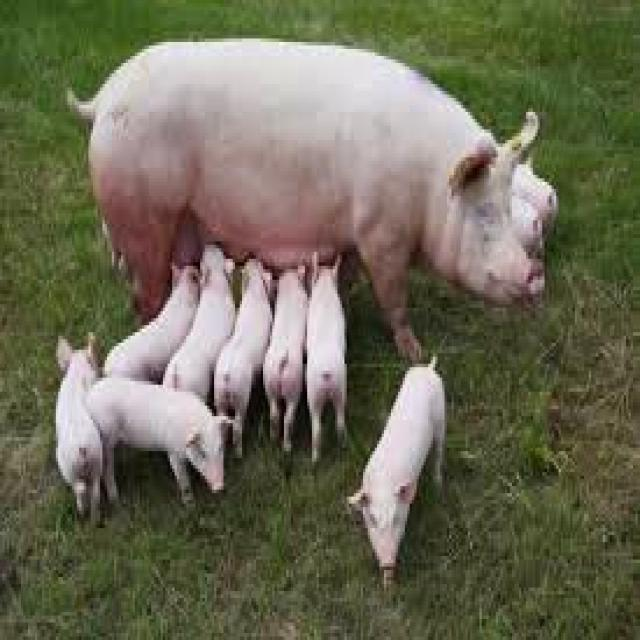pig: (79, 38, 542, 357), (347, 357, 445, 577), (86, 378, 228, 500), (214, 259, 270, 455), (163, 245, 233, 399), (102, 269, 198, 378), (56, 339, 100, 518), (305, 259, 344, 458), (263, 269, 305, 448)
